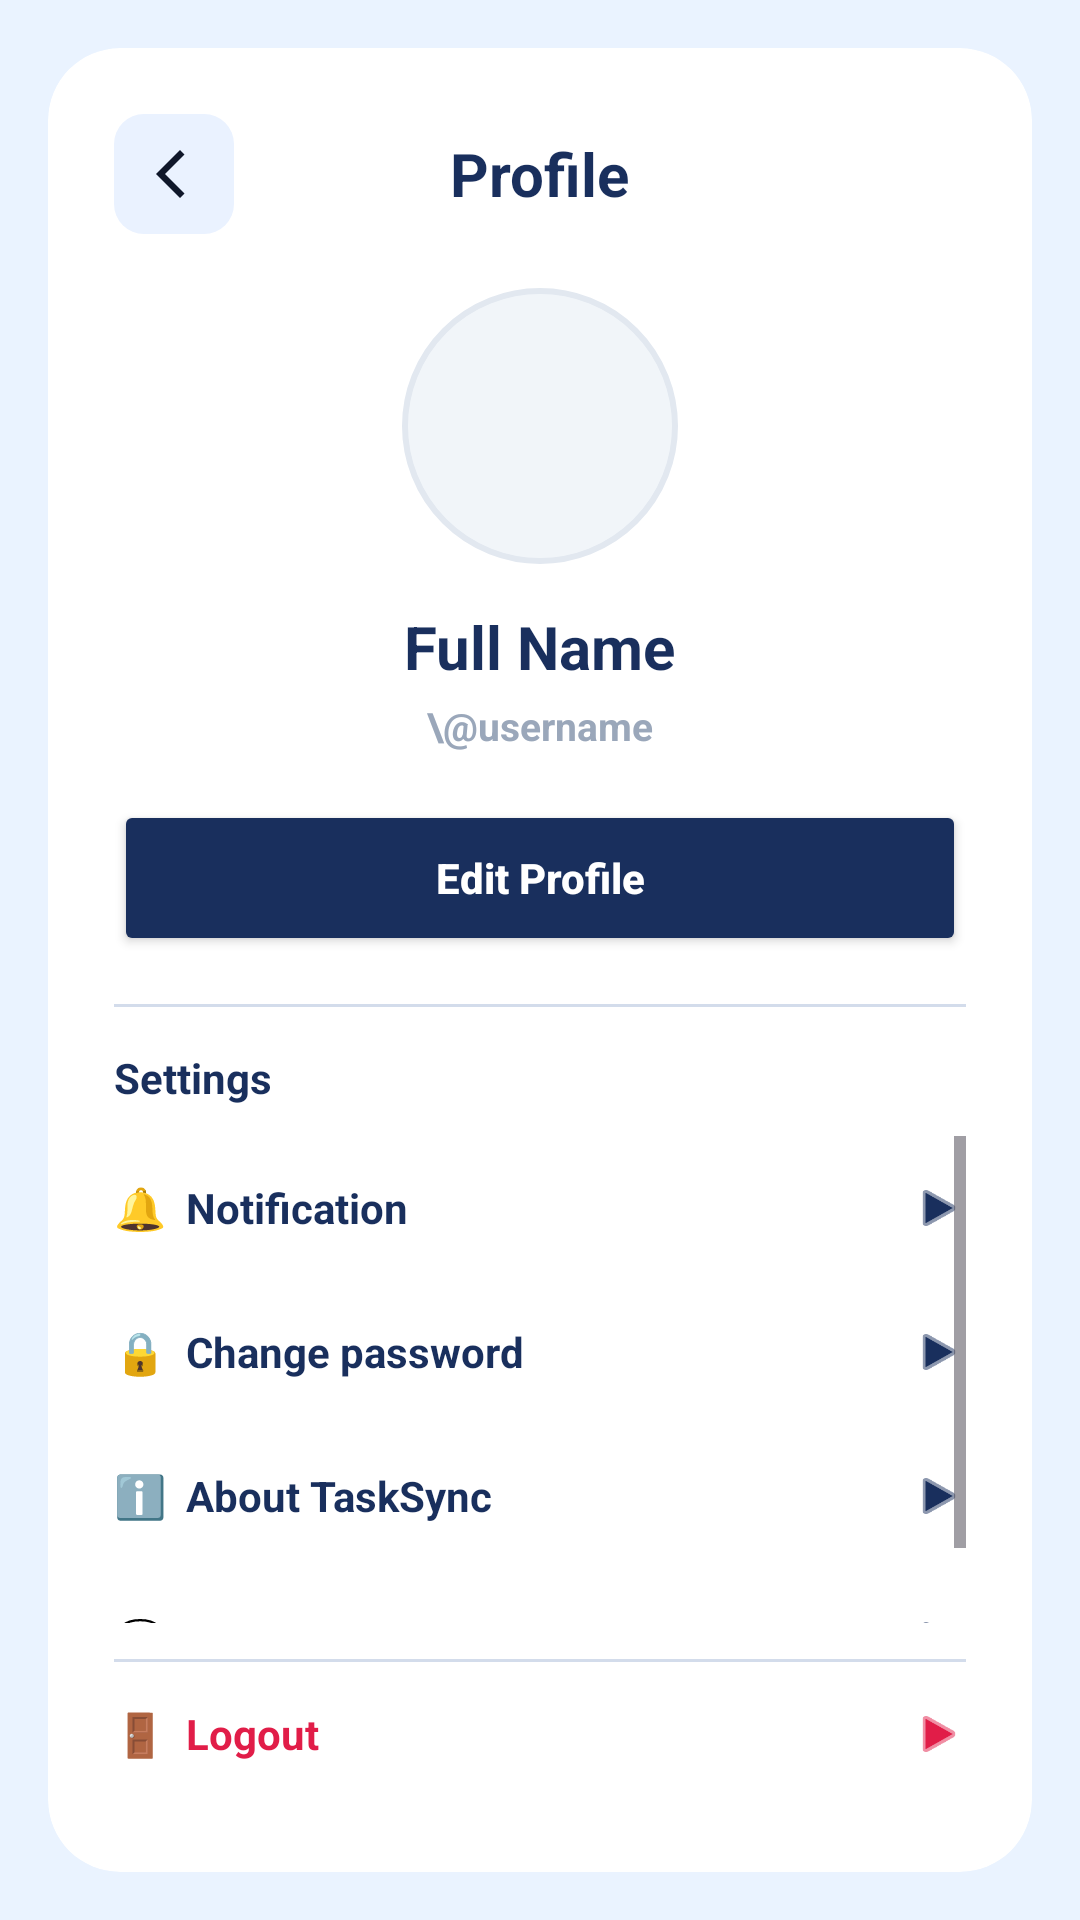

Icon click points for this 1080 x 1920 phone screenshot, format (x,y):
back: (174,174)
